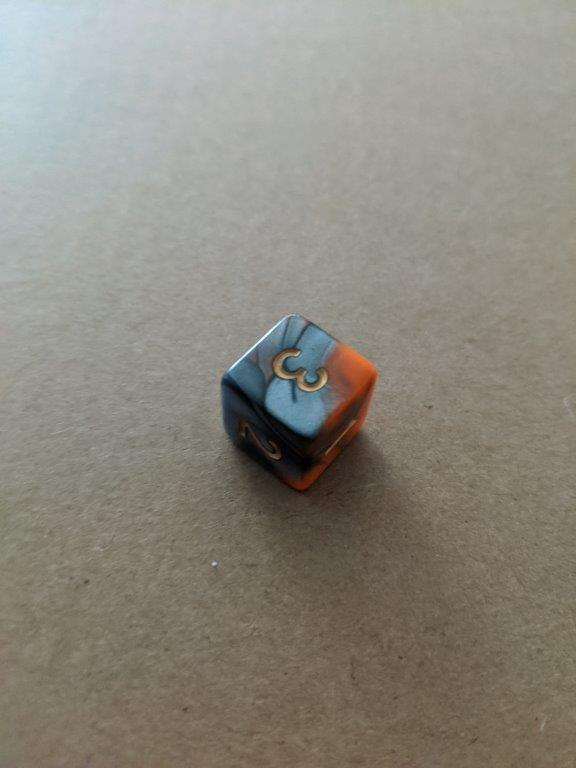d6-3: (220, 315, 378, 490)
